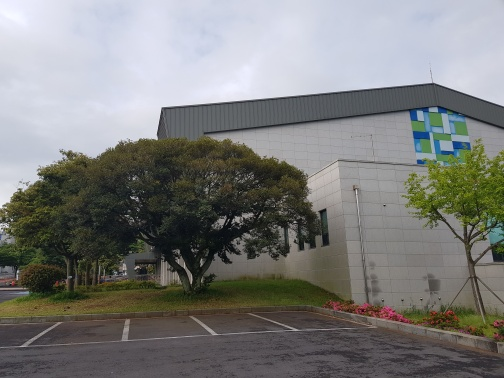Gym: (158, 63, 498, 326), (409, 97, 477, 167)
